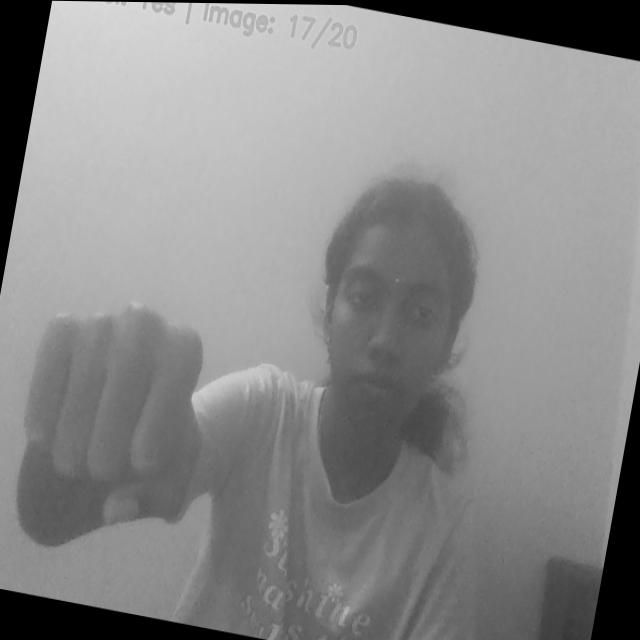Yes: (3, 287, 226, 555)
